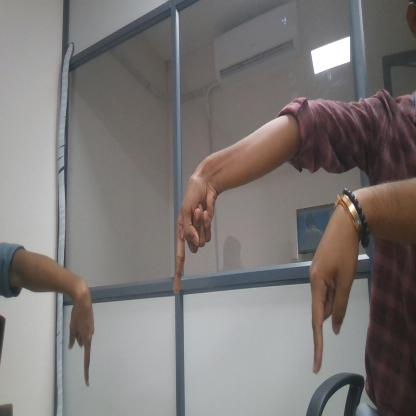Down: (302, 191, 368, 379), (170, 154, 222, 309), (64, 276, 105, 409)
